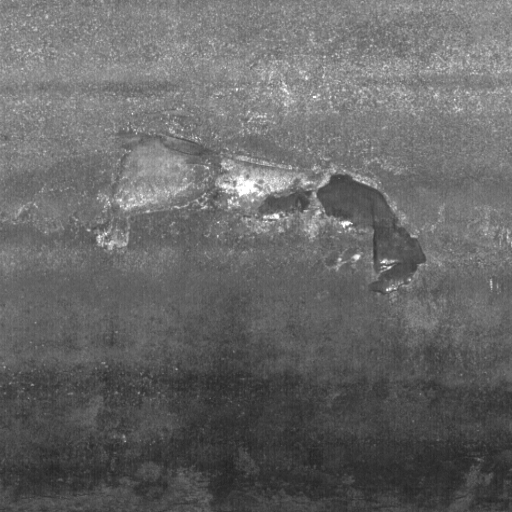qiaopi: (90, 128, 431, 297)
